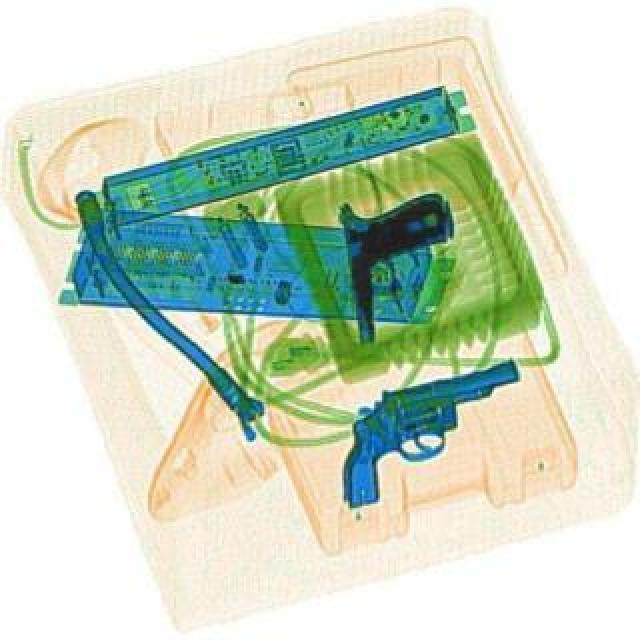gun: (312, 364, 540, 516), (332, 196, 460, 344)
